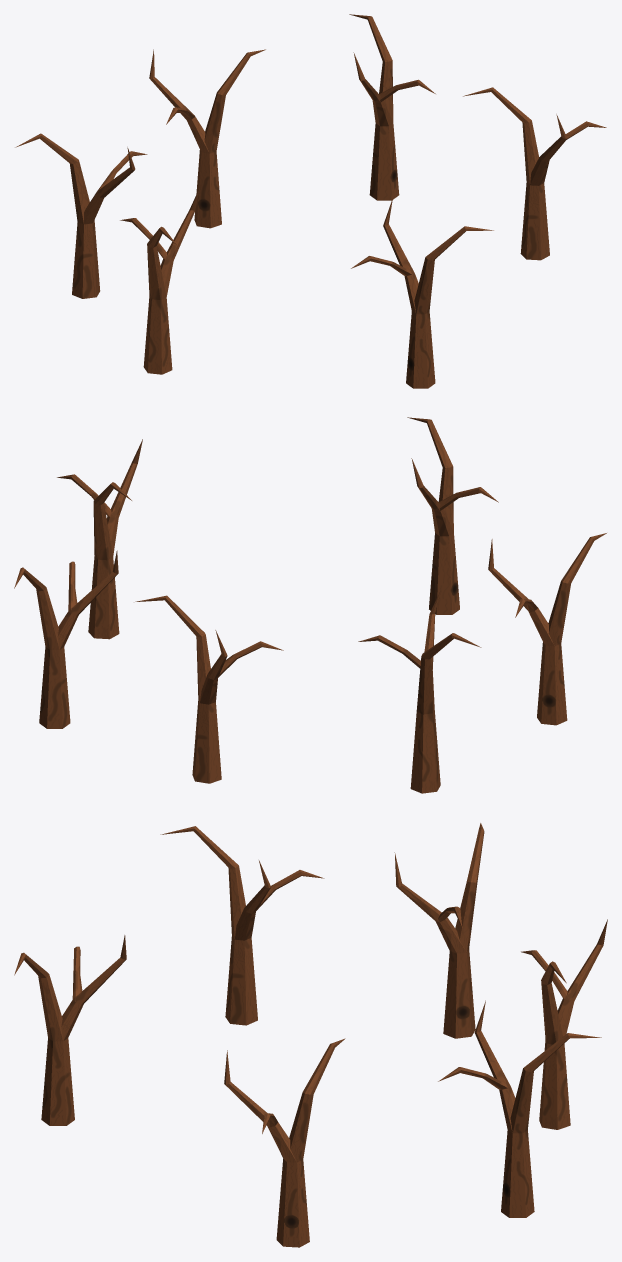
The model's file is trees.obj.
The picture shows the model from 3 angles, top to bottom: view 1: azimuth 30°, elevation 25°; view 2: azimuth 150°, elevation 25°; view 3: azimuth 270°, elevation 25°; orthographic projection. The views are drawn at different scales.
Parts seen in each view (by area): view 1: Plane.004_Plane.001, Plane.002_Plane.001, Plane.005_Plane.001, Plane.006_Plane.001, Plane.003_Plane.001, Plane.001; view 2: Plane.001, Plane.005_Plane.001, Plane.004_Plane.001, Plane.006_Plane.001, Plane.003_Plane.001, Plane.002_Plane.001; view 3: Plane.001, Plane.004_Plane.001, Plane.003_Plane.001, Plane.002_Plane.001, Plane.005_Plane.001, Plane.006_Plane.001.
Part boxes in pixels (x1,y1,x2,y2): Plane.004_Plane.001: [351, 198, 493, 388]; Plane.002_Plane.001: [15, 133, 147, 298]; Plane.005_Plane.001: [120, 187, 199, 374]; Plane.006_Plane.001: [149, 49, 265, 228]; Plane.003_Plane.001: [463, 87, 606, 260]; Plane.001: [349, 14, 435, 200]; Plane.001: [14, 550, 118, 728]; Plane.005_Plane.001: [488, 533, 606, 725]; Plane.004_Plane.001: [407, 417, 498, 614]; Plane.006_Plane.001: [135, 595, 283, 783]; Plane.003_Plane.001: [57, 439, 142, 639]; Plane.002_Plane.001: [358, 588, 481, 793]; Plane.001: [438, 1000, 601, 1217]; Plane.004_Plane.001: [14, 935, 126, 1125]; Plane.003_Plane.001: [224, 1038, 345, 1247]; Plane.002_Plane.001: [394, 823, 484, 1038]; Plane.005_Plane.001: [160, 826, 324, 1025]; Plane.006_Plane.001: [521, 919, 607, 1129].
Bounding box in the file's own units: 38.89 × 12.27 × 35.28.
1 material, 1 textured.
